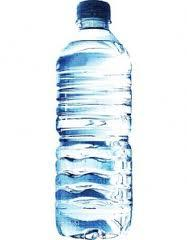bottle: (0, 0, 40, 120)
